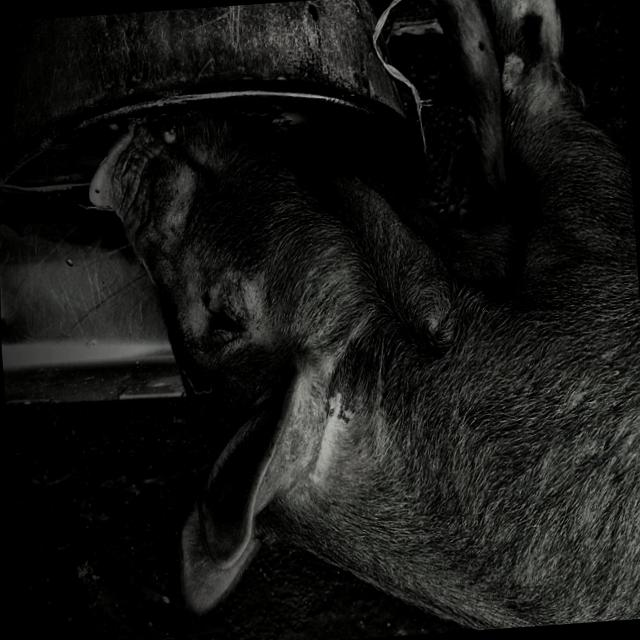pig: (89, 0, 640, 627)
